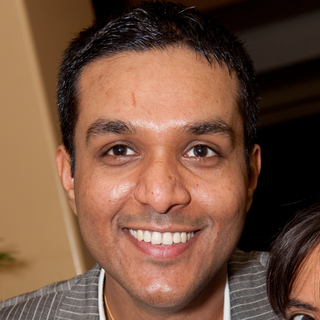eye: (176, 140, 239, 169), (90, 139, 147, 162)
